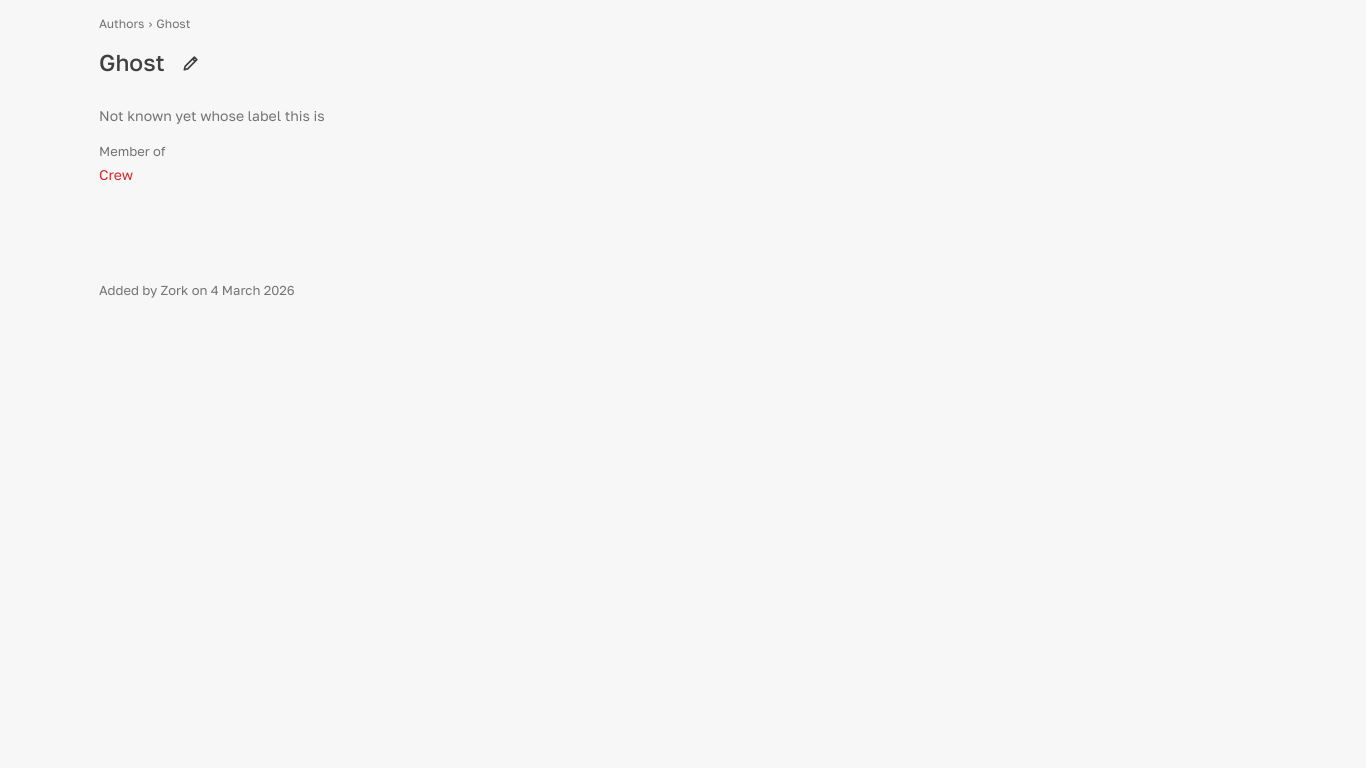
Test: LabelView › offers saying whose the label is
Check: the button "Say whose label" is not shown
Click the button named "Actions": (191, 63) [173,45,209,81]
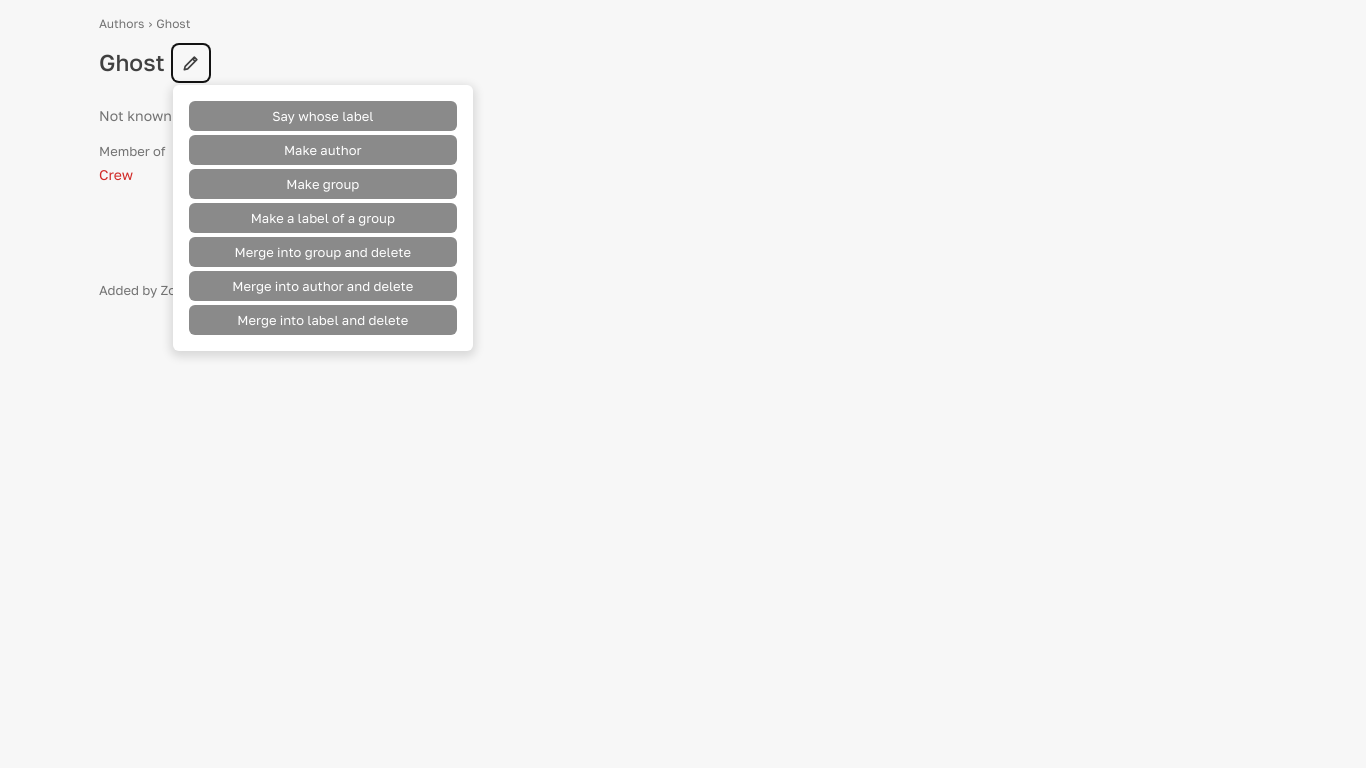
Check: the button "Say whose label" is shown, box [189,101,457,131]
